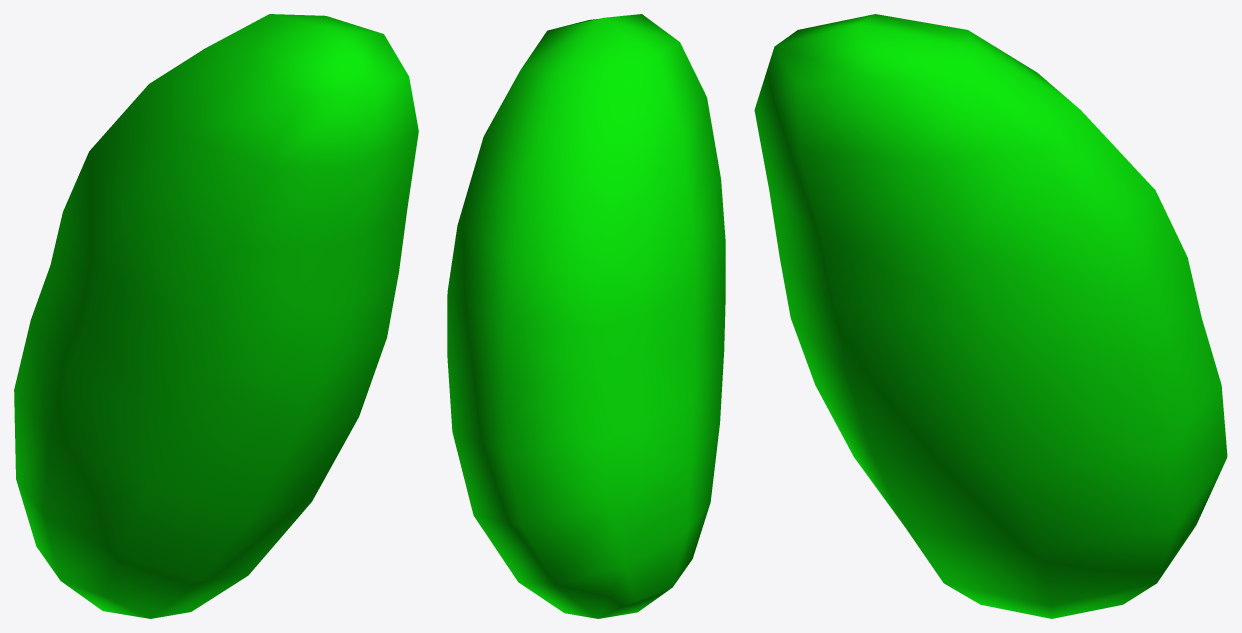
3 views of the same model, side by side, from view 1: azimuth 30°, elevation 25°; view 2: azimuth 150°, elevation 25°; view 3: azimuth 270°, elevation 25° (orthographic). The views are drawn at different scales.
Parts seen in each view (by area): view 1: Cube; view 2: Cube; view 3: Cube.
Boxes of the visible parts, left/top/right/bottom form: Cube: left=14, top=14, right=418, bottom=618; Cube: left=447, top=14, right=725, bottom=618; Cube: left=754, top=14, right=1227, bottom=618.
Size of the model in its own units: 44.46 by 91.68 by 61.99.
